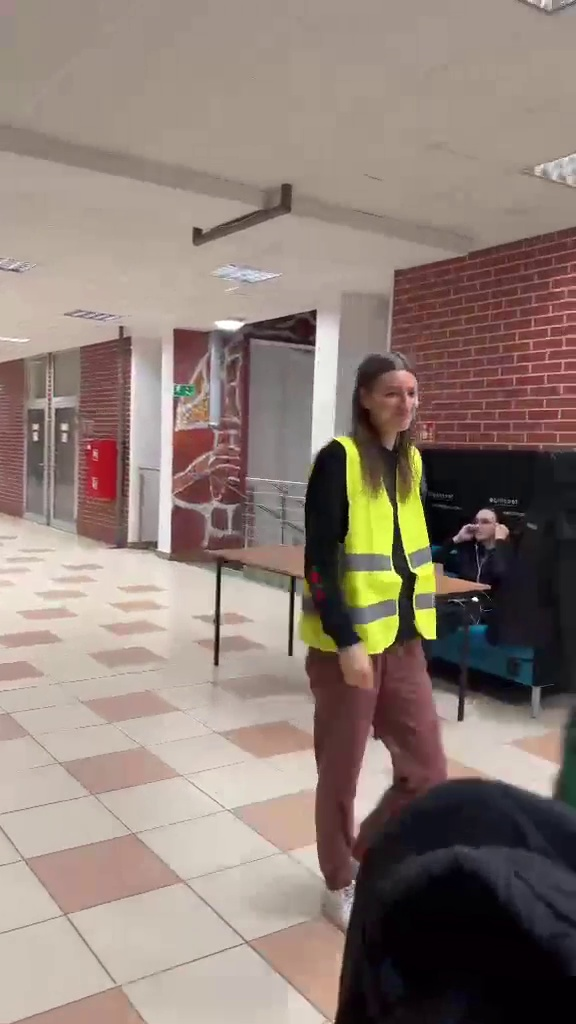no vest: (441, 494, 518, 670)
vest: (301, 346, 442, 904)
